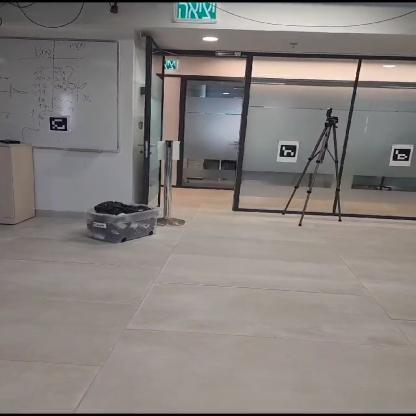open: (153, 74, 241, 212)
